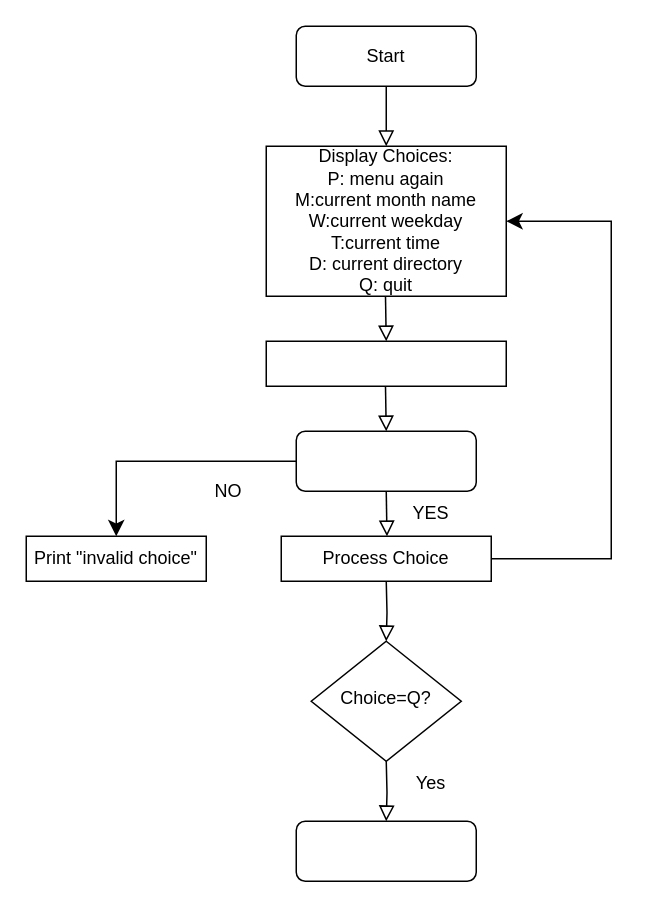
Image size: 653x908. Some labels were removed from this diagram. The centre of each missing label's shape, as x and y in pixels:
Print "goodbye" and Stop: (x=385, y=850)
User input choice: (x=385, y=363)
Valid Choice?: (x=385, y=460)
